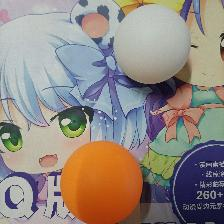WhiteBall: (113, 2, 190, 83)
YellowBall: (60, 139, 142, 224)
